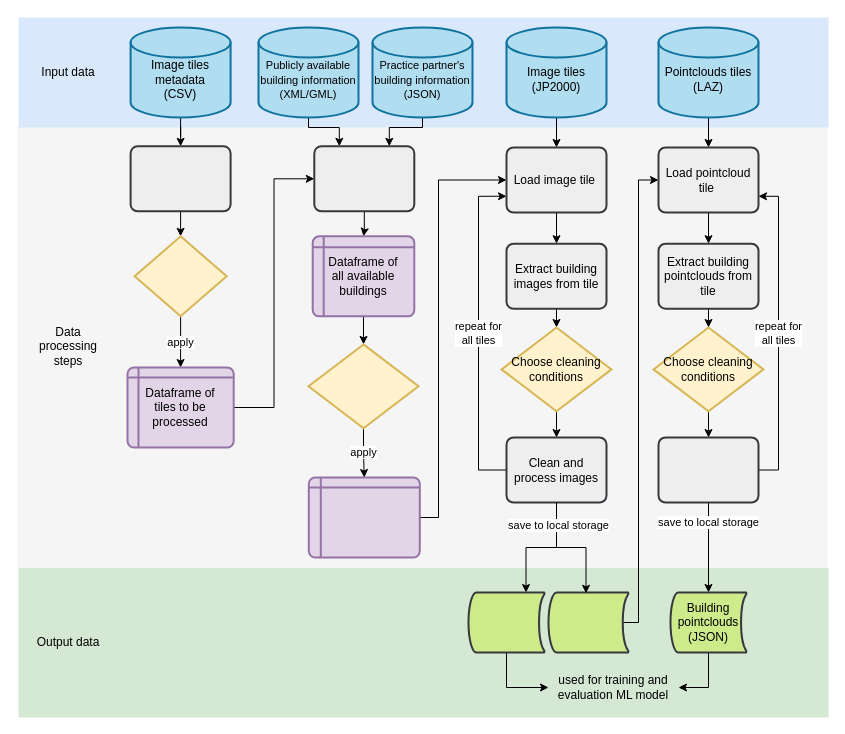
The diagram is 845 pixels wide and 734 high, and some of its shapes have lost their labels. Here are the shapes that lost their labels. From the top down, the centre of each, then its label:
the point at 180,178: Get info on all available image tiles
the point at 364,178: Get info on all buildings in selected tiles
the point at 180,276: Choose tiles to process
the point at 363,386: Choose filtering conditions
the point at 708,469: Clean and process pointclouds
the point at 363,517: Dataframe of buildings to be processed
the point at 506,622: Building images (PNG)
the point at 588,622: Building information (JSON)
